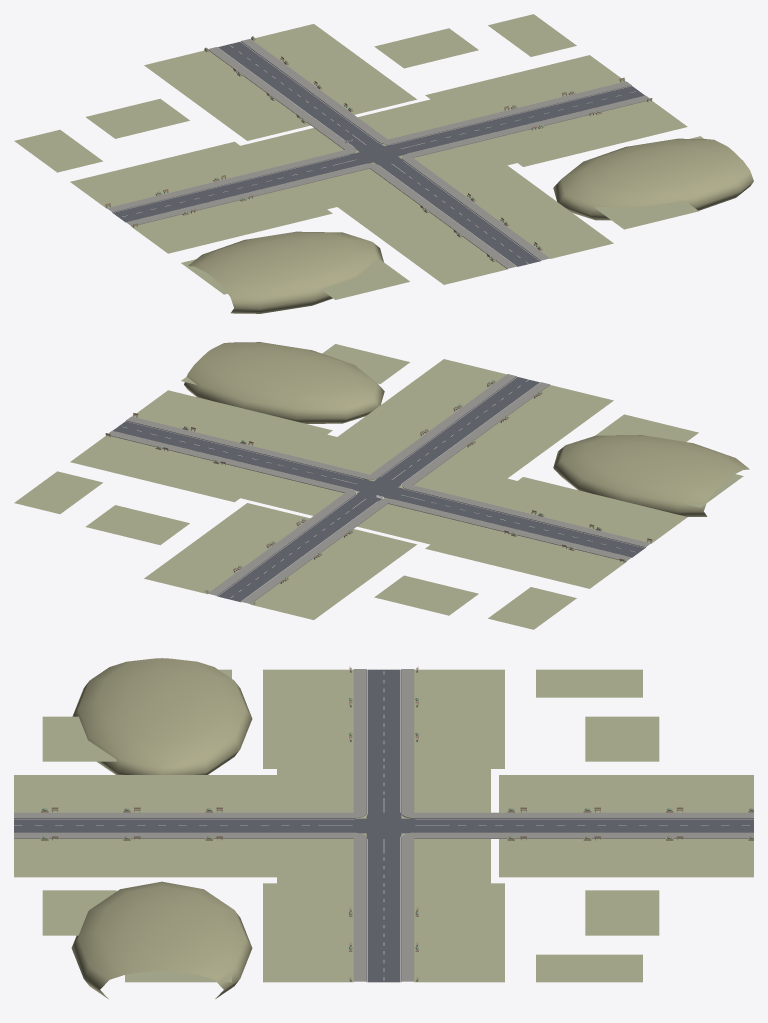
The picture shows the model from 3 angles, top to bottom: view 1: azimuth 30°, elevation 25°; view 2: azimuth 150°, elevation 25°; view 3: azimuth 270°, elevation 25°; orthographic projection. The views are drawn at different scales.
Visible parts, largest first — view 1: static; view 2: static; view 3: static.
Boxes of the visible parts, x1=… form: static: x1=14, y1=14, x2=753, y2=313; static: x1=14, y1=342, x2=749, y2=629; static: x1=14, y1=658, x2=753, y2=998.
Size of what is drawn, in the model's own units: 180 by 14.08 by 180.
3 materials, 2 textured.
